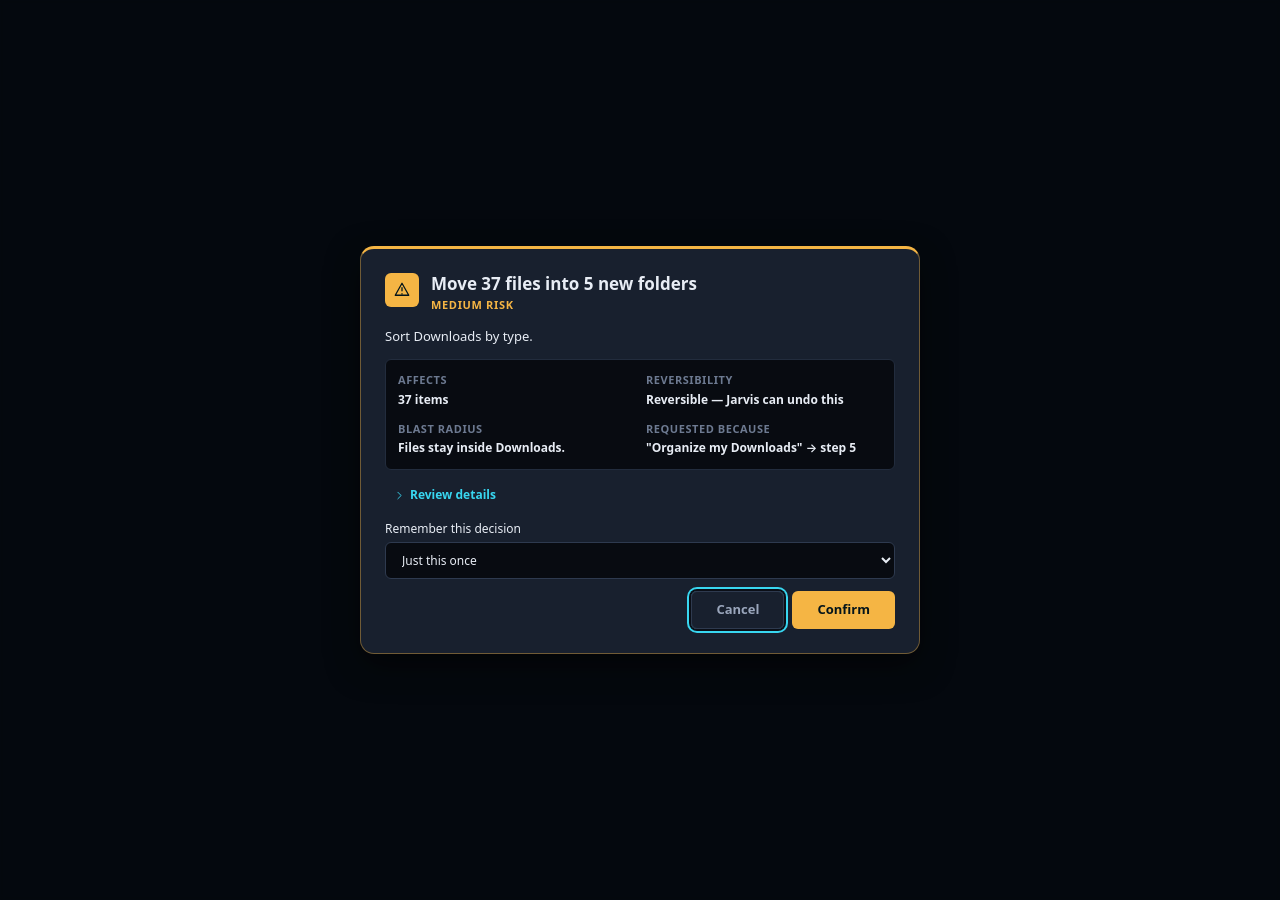
ConsentDialog › hides exact targets until Review details is opened
This screenshot has width=1280, height=900.
Check: the text "C:\\a.pdf" is not shown
Click the button "Review details".
click(444, 495)  # box [385,482,504,508]
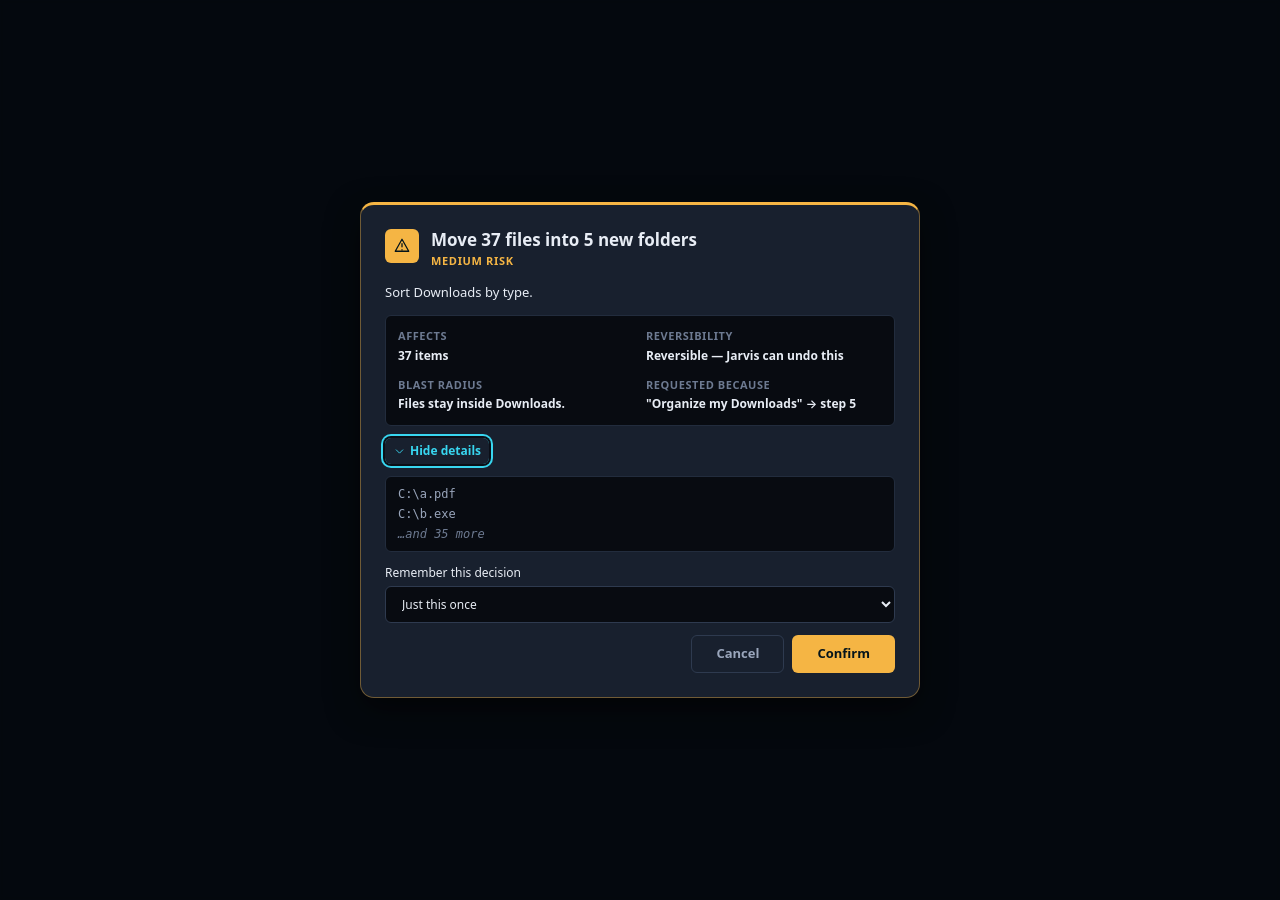
Check: the list item "C:\\a.pdf" is shown, box [398,487,456,501]
